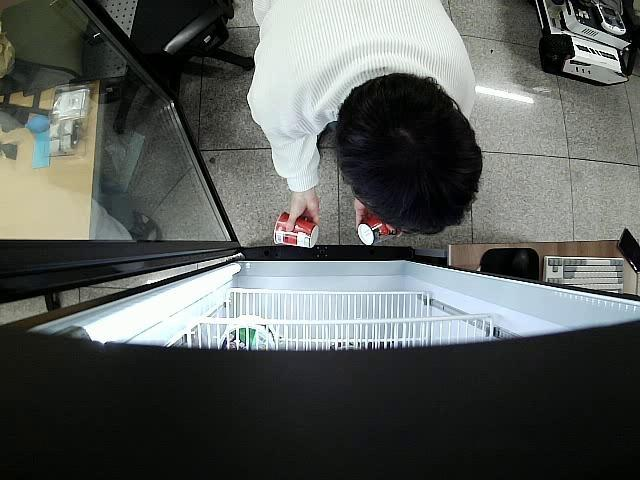02_shinRamen_S: (274, 210, 320, 250), (359, 214, 402, 244)
